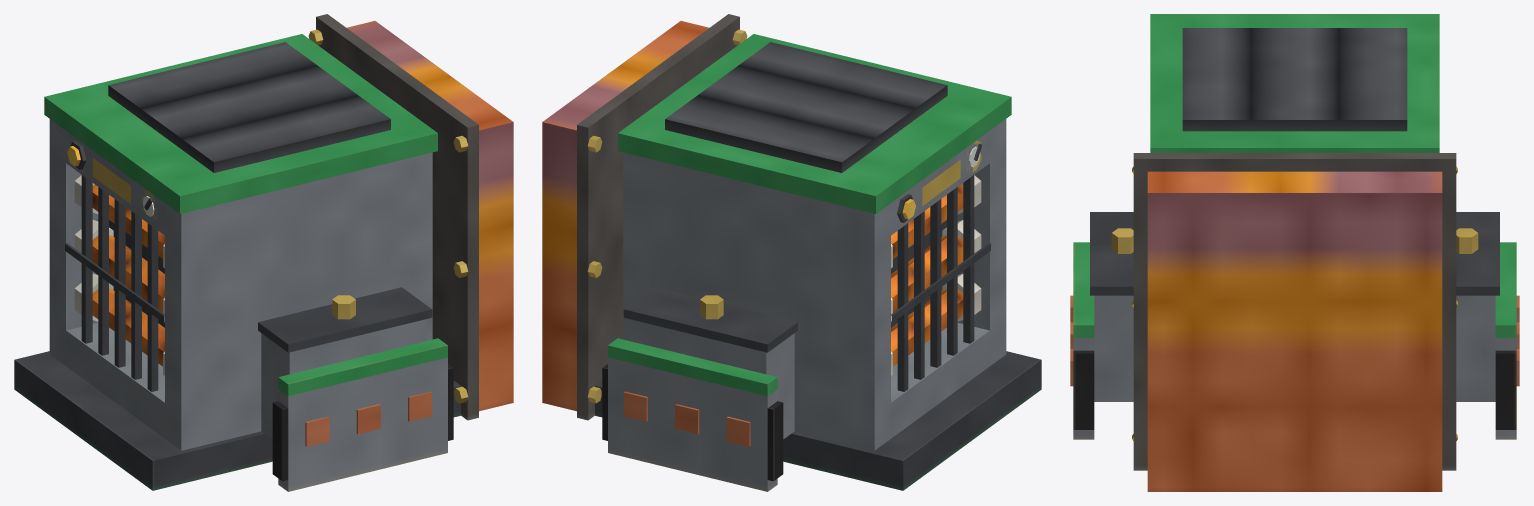
File: electricheater50v.obj
The picture shows the model from 3 angles, left to right: view 1: azimuth 30°, elevation 25°; view 2: azimuth 150°, elevation 25°; view 3: azimuth 270°, elevation 25°; orthographic projection. The views are drawn at different scales.
Visible parts, largest first — view 1: main; view 2: main; view 3: main.
Part boxes in pixels (x1,y1,x2,y2): main: (14,14,513,491); main: (542,14,1041,491); main: (1070,14,1519,491).
Bounding box in the file's own units: 0.9875 × 0.7781 × 1.
Materials: 1 (1 with a texture image).
